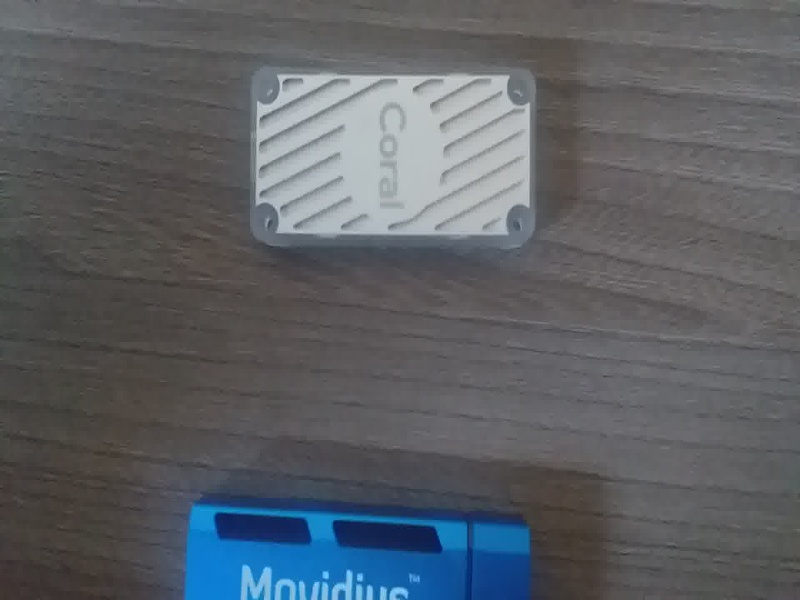coral: (237, 58, 552, 274)
movidius: (177, 476, 536, 600)
